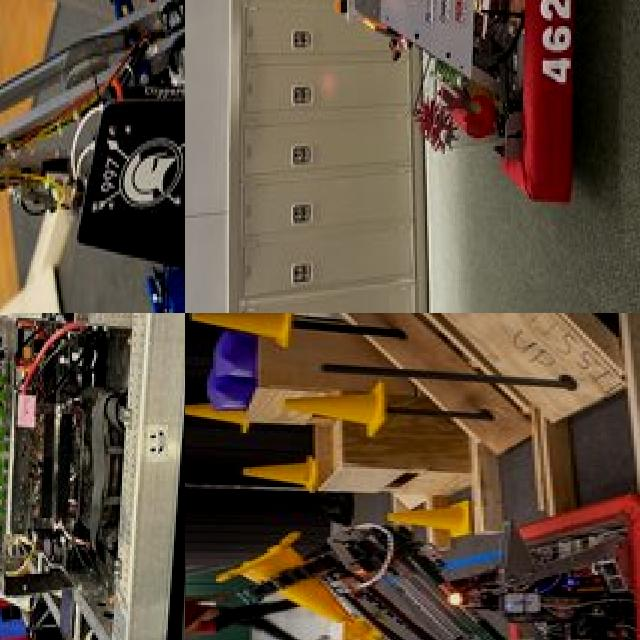FRC-Robots: (310, 0, 601, 244), (209, 480, 640, 640), (0, 313, 185, 640), (0, 0, 185, 313)
